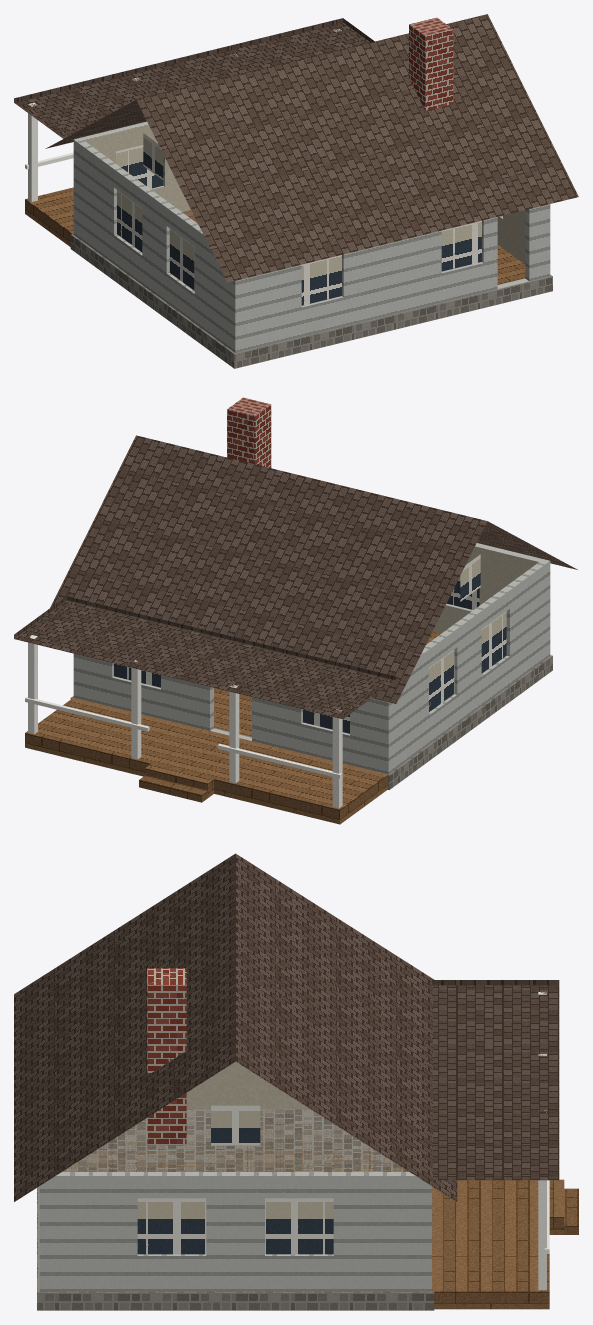
File: farmhouse_grey.glb
3 renders of one model, top to bottom at view 1: azimuth 30°, elevation 25°; view 2: azimuth 150°, elevation 25°; view 3: azimuth 270°, elevation 25°, orthographic. The views are drawn at different scales.
Visible parts, largest first — view 1: farmhouse_grey; view 2: farmhouse_grey; view 3: farmhouse_grey.
Boxes of the visible parts, x1,y1,x2,y2 form: farmhouse_grey: [14, 14, 578, 368]; farmhouse_grey: [14, 397, 577, 824]; farmhouse_grey: [14, 853, 578, 1310].
Size of the model in its own units: 10.04 by 6.6 by 11.52.
Materials: 8 (8 with a texture image).
